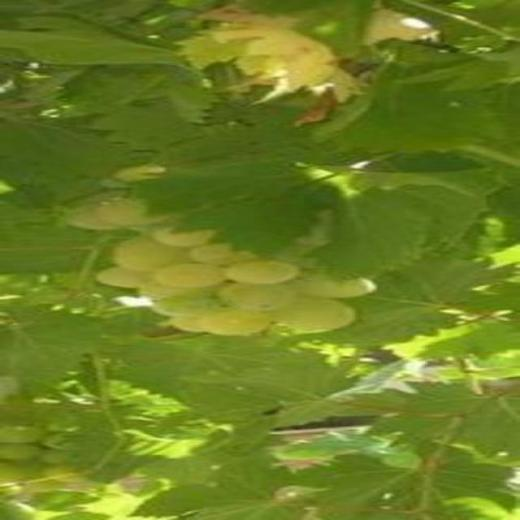Orange: (64, 192, 376, 334)
